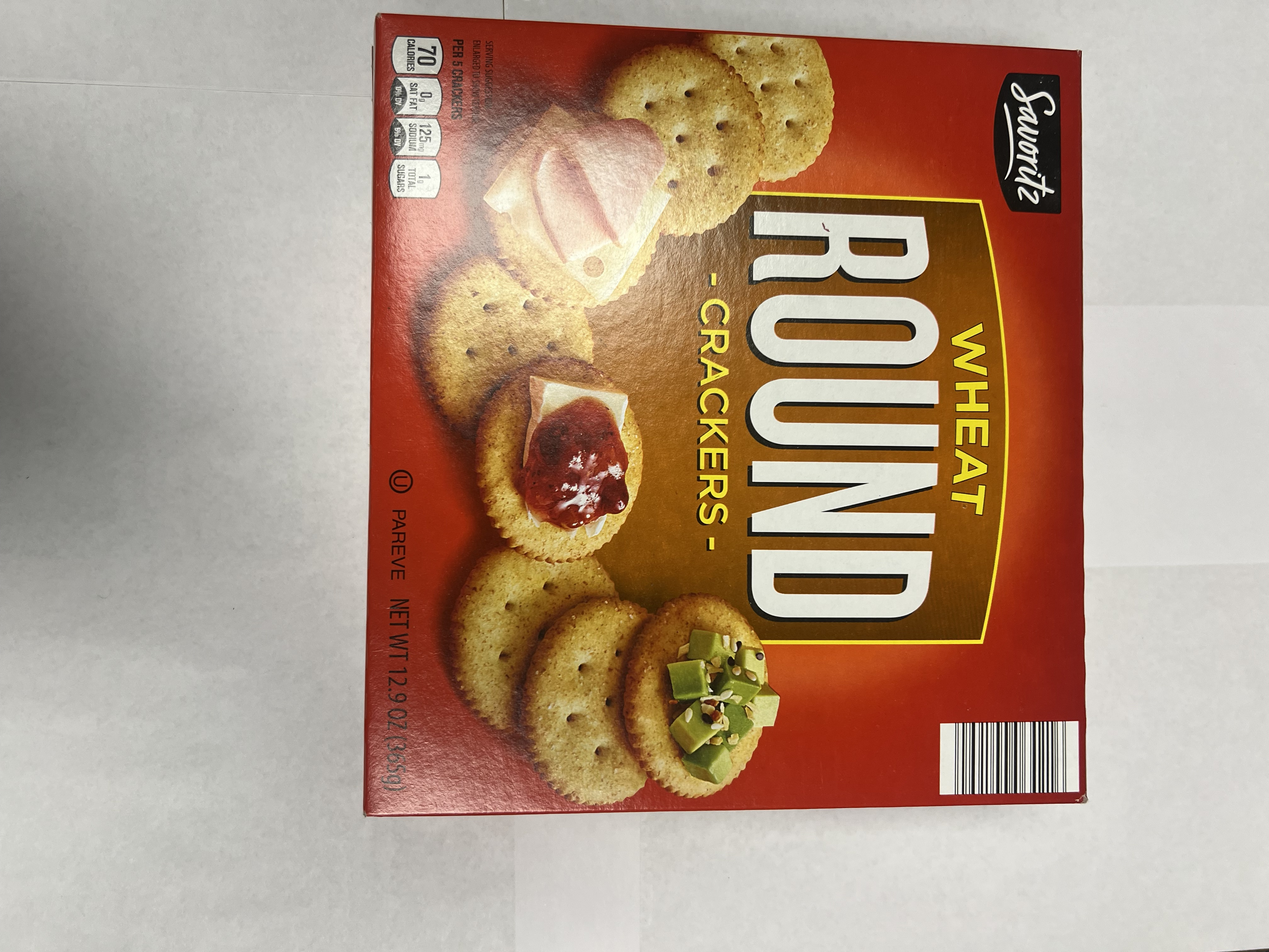packaged: (357, 7, 1094, 821)
